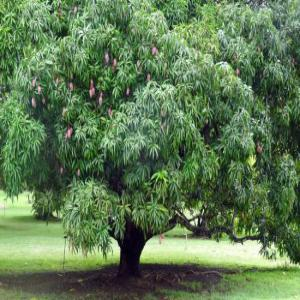Tree: (8, 3, 258, 283)
